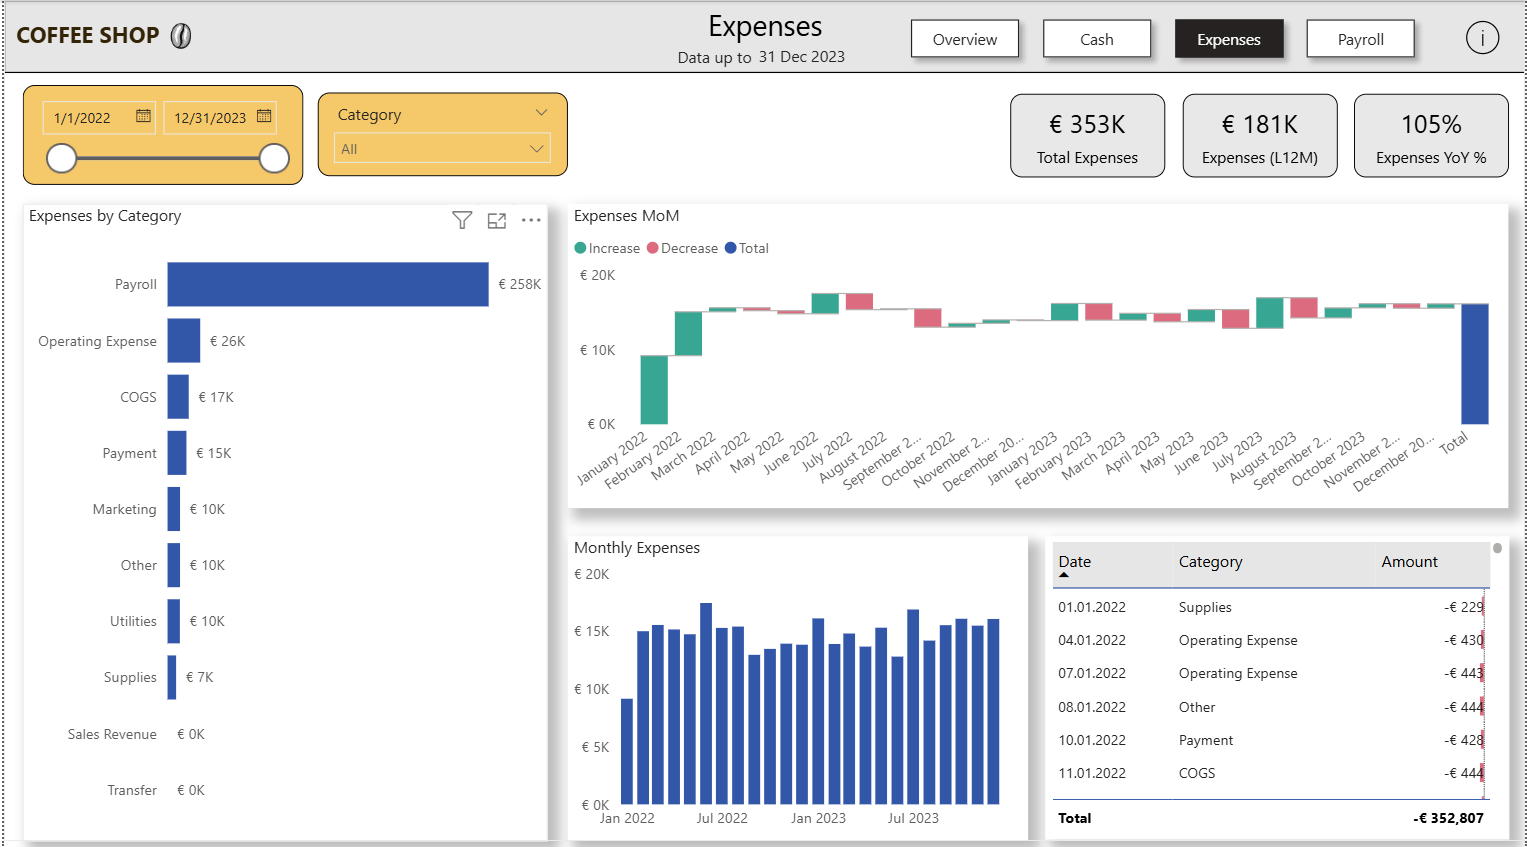

The dashboard page shown, as its layout file describes it:
{"tool":"powerbi","page":{"name":"Expenses","canvas":[1280,720],"ordinal":2},"visuals":[{"type":"shape","box":[0,0,1280,61.4],"z":0,"group":"g2"},{"type":"group","id":"g1","title":"Group 2","box":[5.7,7.1,195.5,48.6],"z":0,"group":"g3"},{"type":"textbox","box":[5.7,11.6,152.9,35.7],"z":0,"group":"g1"},{"type":"card","fields":{"Values":["_Measurements.Latest Date"]},"box":[621.5,34.7,100,24.3],"z":0,"group":"g4"},{"type":"group","id":"g2","title":"Expenses main page","box":[0,0,1280,707.5],"z":1000},{"type":"image","box":[98.4,7.1,102.9,48.6],"z":1000,"group":"g1"},{"type":"textbox","box":[561.5,33.3,82.9,30],"z":1000,"group":"g4"},{"type":"card","fields":{"Values":["_Measurements.Total Expenses"]},"box":[846,78.6,130,70],"z":1000,"group":"g2"},{"type":"card","fields":{"Values":["_Measurements.Expenses (L12M)"]},"box":[991,78.6,130,70],"z":2000,"group":"g2"},{"type":"pageNavigator","box":[754.3,7.7,443.9,50],"z":2500},{"type":"card","fields":{"Values":["_Measurements.Expenses YoY % (Monthly)"]},"box":[1136,78.6,130.4,70],"z":3000,"group":"g2"},{"type":"group","id":"g3","title":"Group 1","box":[5.7,7.1,195.7,48.6],"z":4000,"group":"g2"},{"type":"textbox","box":[397.1,0,485.7,47.1],"z":5000,"group":"g2"},{"type":"group","id":"g4","title":"Group 3","box":[561.5,33.3,160,30],"z":6000,"group":"g2"},{"type":"slicer","fields":{"Values":["analytics dim_calendar.date"]},"box":[16,72,236,84],"z":7000,"group":"g2"},{"type":"actionButton","box":[1223.8,11.2,42.5,40],"z":8000,"group":"g2"},{"type":"slicer","title":"Category","fields":{"Values":["analytics v_fact_cash_txn.category"]},"box":[264,78,210,70],"z":9000,"group":"g2"},{"type":"barChart","title":"Expenses by Category","fields":{"Category":["analytics v_expense_by_category_month.category"],"Y":["_Measurements.Category Expenses"]},"box":[16.2,171.2,441.2,536.2],"z":10000,"group":"g2"},{"type":"columnChart","title":"Monthly Expenses","fields":{"Category":["DimMonth.month_start"],"Y":["_Measurements.Monthly Expenses"]},"box":[474.3,451.4,387.1,255.7],"z":11000,"group":"g2"},{"type":"waterfallChart","title":"Expenses MoM","fields":{"Category":["DimMonth.month_start"],"Y":["_Measurements.Expenses MoM Δ"]},"box":[474.3,171.4,791.4,255.7],"z":12000,"group":"g2"},{"type":"tableEx","fields":{"Values":["analytics v_fact_cash_txn.txn_date","analytics v_fact_cash_txn.category","Sum(analytics v_fact_cash_txn.amount)"]},"box":[875.7,451,390,255],"z":13000,"group":"g2"}]}

Visuals, with their boxes in screenshot pixels (x1, y1, x2, y2), scaled from the page's 1280x720 canvas onto the 1527x847 screenshot:
shape: pyautogui.locateOnScreen(0, 0, 1526, 72)
"Group 2" group: pyautogui.locateOnScreen(7, 8, 240, 66)
textbox: pyautogui.locateOnScreen(7, 14, 189, 56)
card - _Measurements.Latest Date: pyautogui.locateOnScreen(741, 41, 861, 69)
"Expenses main page" group: pyautogui.locateOnScreen(0, 0, 1526, 832)
image: pyautogui.locateOnScreen(117, 8, 240, 66)
textbox: pyautogui.locateOnScreen(670, 39, 769, 74)
card - _Measurements.Total Expenses: pyautogui.locateOnScreen(1009, 92, 1164, 175)
card - _Measurements.Expenses (L12M): pyautogui.locateOnScreen(1182, 92, 1337, 175)
pageNavigator: pyautogui.locateOnScreen(900, 9, 1429, 68)
card - _Measurements.Expenses YoY % (Monthly): pyautogui.locateOnScreen(1355, 92, 1511, 175)
"Group 1" group: pyautogui.locateOnScreen(7, 8, 240, 66)
textbox: pyautogui.locateOnScreen(474, 0, 1053, 55)
"Group 3" group: pyautogui.locateOnScreen(670, 39, 861, 74)
slicer - analytics dim_calendar.date: pyautogui.locateOnScreen(19, 85, 301, 184)
actionButton: pyautogui.locateOnScreen(1460, 13, 1511, 60)
"Category" slicer: pyautogui.locateOnScreen(315, 92, 565, 174)
"Expenses by Category" barChart: pyautogui.locateOnScreen(19, 201, 546, 832)
"Monthly Expenses" columnChart: pyautogui.locateOnScreen(566, 531, 1028, 832)
"Expenses MoM" waterfallChart: pyautogui.locateOnScreen(566, 202, 1510, 502)
tableEx - analytics v_fact_cash_txn.txn_date x analytics v_fact_cash_txn.category: pyautogui.locateOnScreen(1045, 531, 1510, 831)
